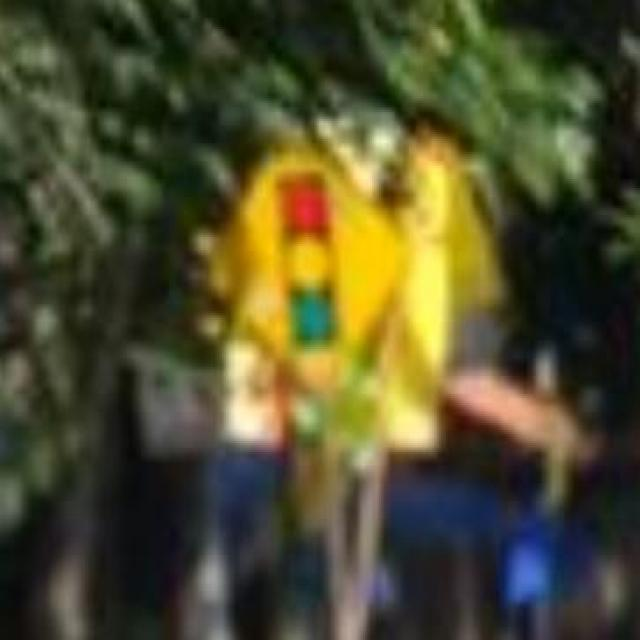traffic sign: (210, 139, 413, 390)
